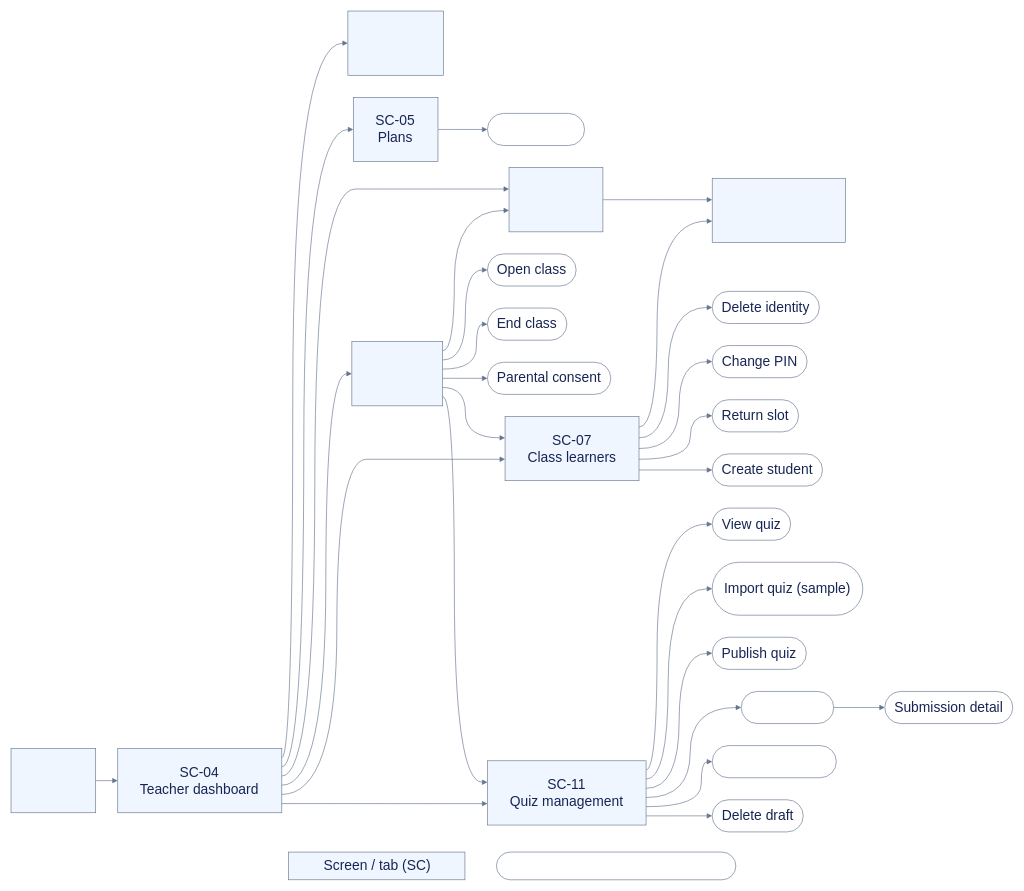
Image size: 1024x891. Some labels were removed from this diagram. The shapes that lost their labels are listed below. From the top down, each one's centre as x and y in pixels, then its label:
[395,42]: SC-06 Settings
[536,129]: QR payment
[555,199]: SC-09 Reports
[778,210]: SC-08 Learner report
[397,373]: SC-10 Groups
[787,707]: Quiz results
[53,780]: SC-02 Login
[774,761]: Create / edit quiz
[616,865]: Action / form / dialog
